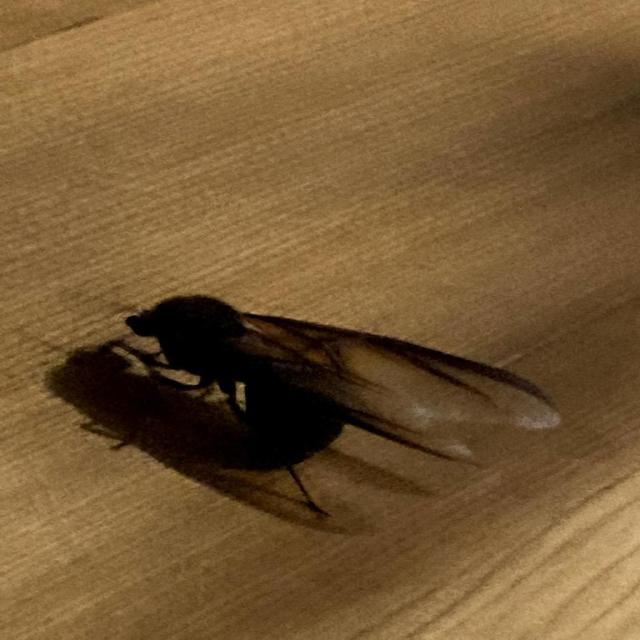Alive-Female-Alate: (93, 294, 564, 518)
